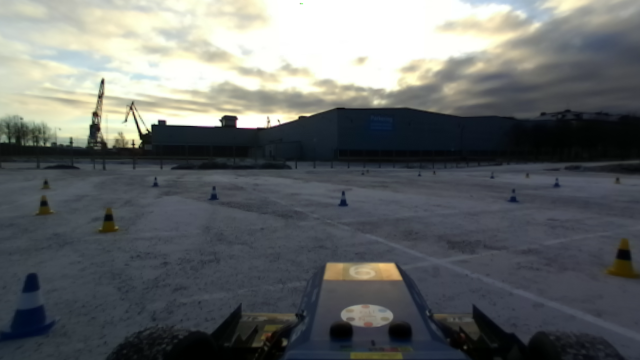blue: (503, 187, 522, 205), (207, 181, 218, 204), (336, 189, 348, 210), (550, 173, 561, 187), (151, 173, 159, 188)
yellow: (600, 236, 640, 281), (98, 206, 119, 236), (30, 194, 54, 218), (40, 176, 53, 192)
